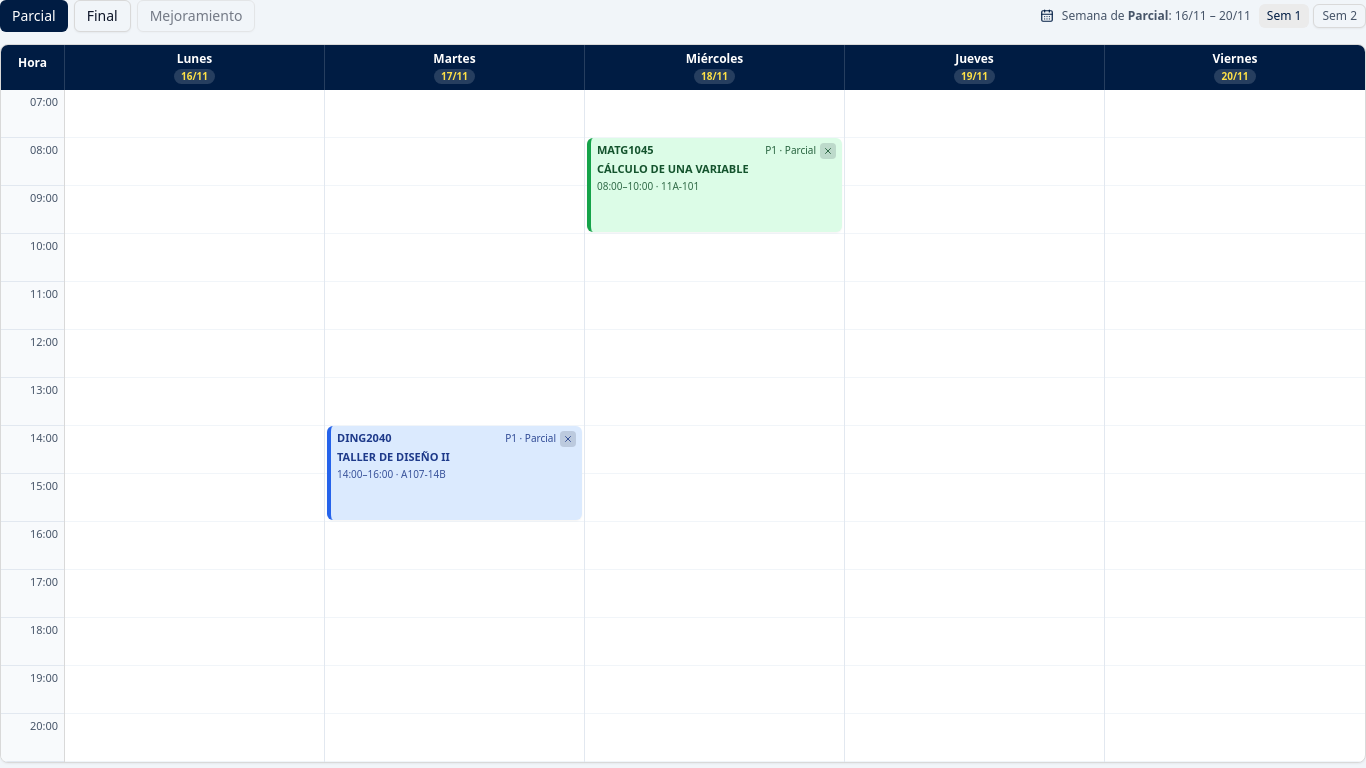
Scenario: Planner UI components › renders ExamWeeklyGrid across empty state, multi-week tabs, type switching, and course removal
Later steps or results of the test are not shown.
// Multi-week buttons (Sem 1, Sem 2)
Click the button "Sem 2" at (1340, 16), box [1313,4,1365,28]
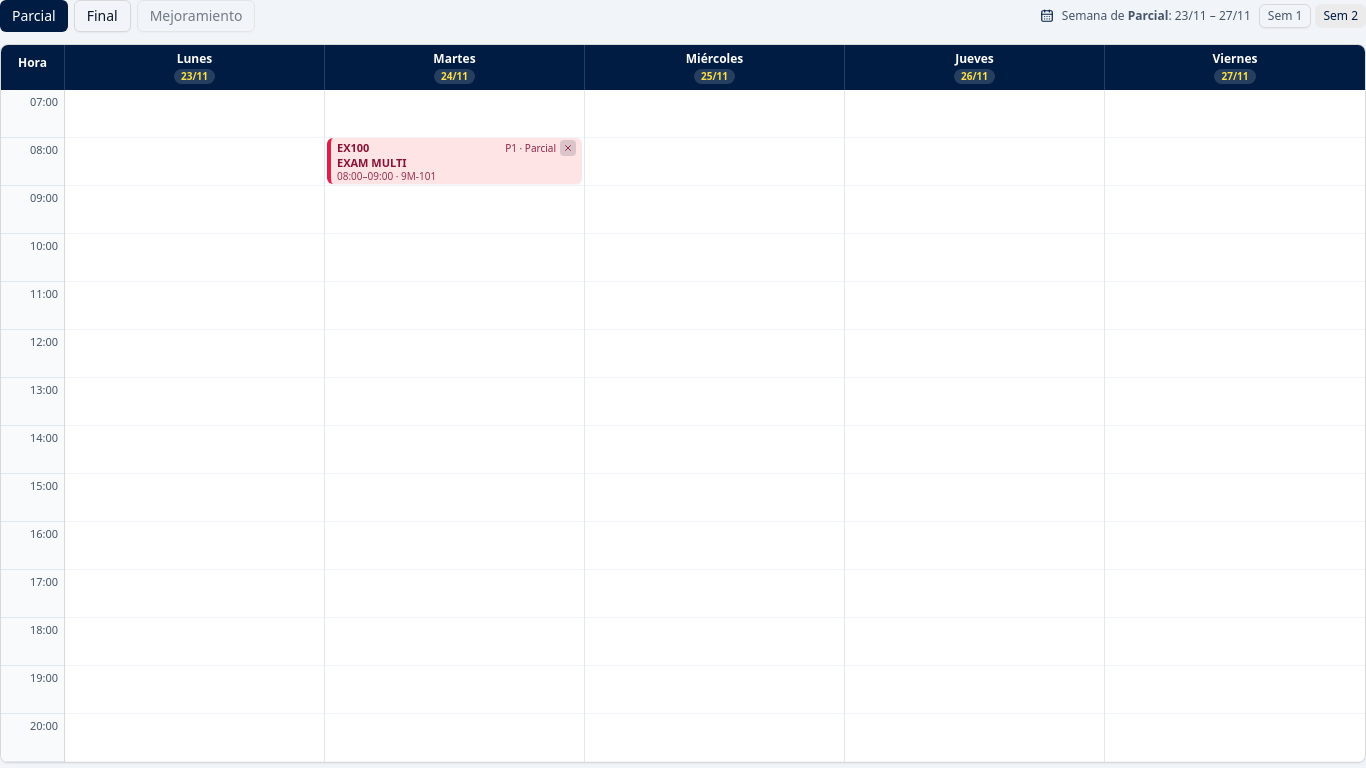
Expected: the button titled "Quitar EX100" is shown
Click the button titled "Quitar EX100" at (568, 148), box [560,140,576,156]
Click the button "Final" at (102, 16), box [74,0,131,32]
(page scrolled)
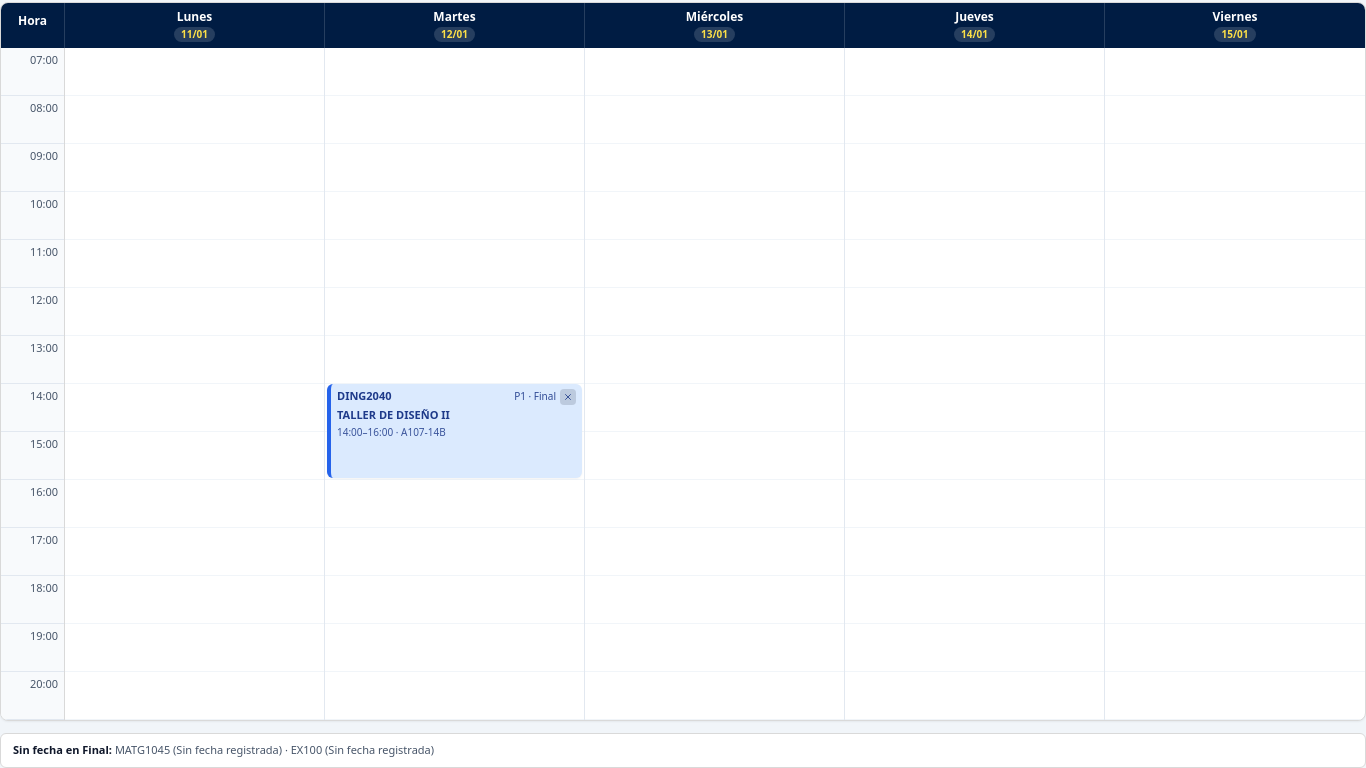
Expected: the text "Sin fecha en Final:" is shown, [13,742,112,757]
